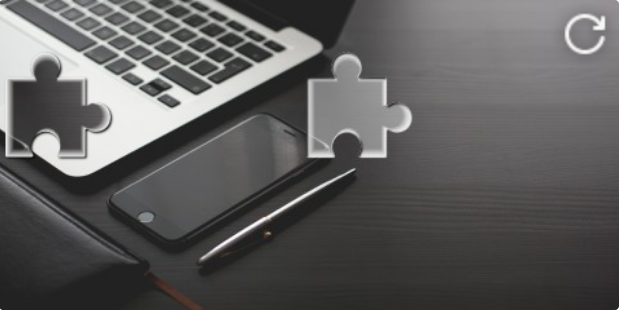target: (307, 53, 413, 158)
